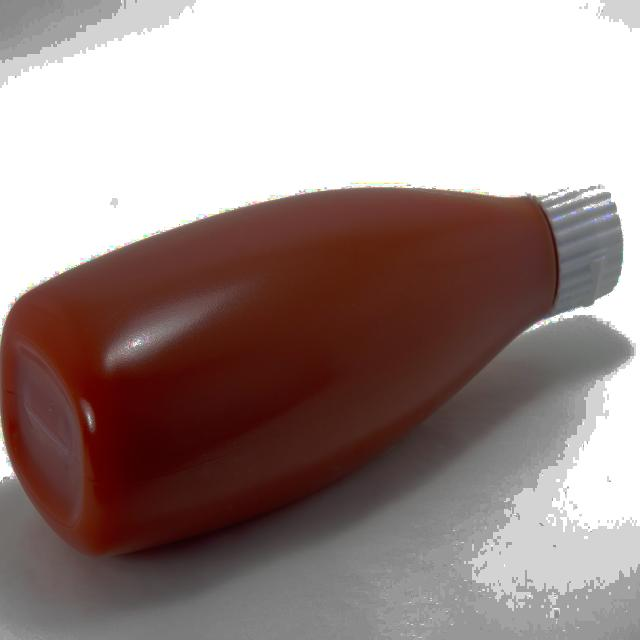ketchup: (1, 174, 622, 553)
